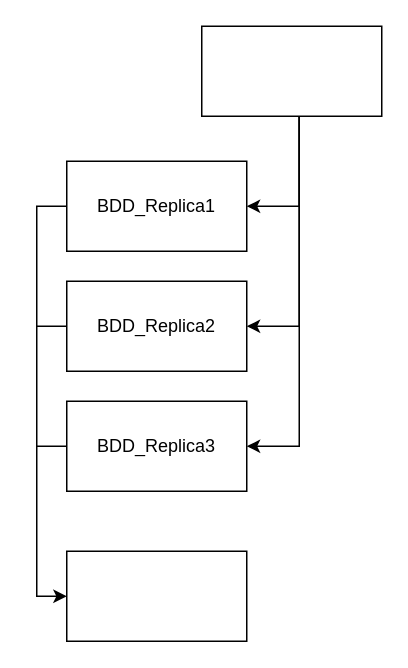
The diagram is 408 pixels wide and 668 high, and some of its shapes have lost their labels. The shapes that lost their labels are listed below. From the top down, each one's centre as x and y in pixels, then its label:
(x=291, y=70): StatefulSet
(x=156, y=595): Volume
